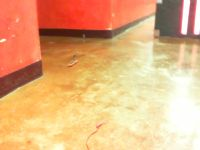switch: (181, 1, 190, 35), (194, 1, 199, 35)
